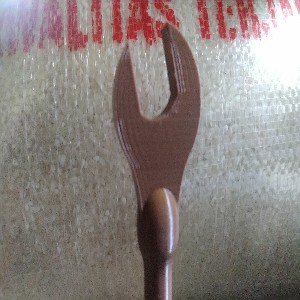spanner: (111, 23, 201, 300)
